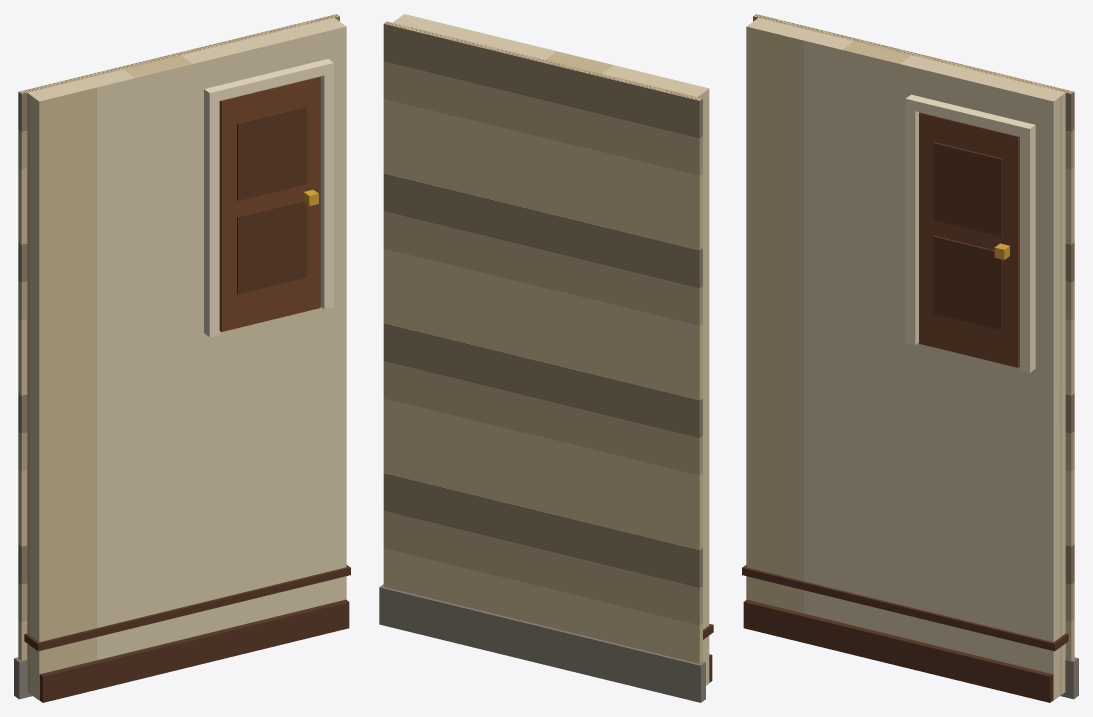
The model's file is stair_north.glb.
The picture shows the model from 3 angles, left to right: view 1: azimuth 30°, elevation 25°; view 2: azimuth 150°, elevation 25°; view 3: azimuth 330°, elevation 25°; orthographic projection.
Parts seen in each view (by area): view 1: Box1, slab, Box2, Box9, Box7, slab_panel2, slab_panel, Box4, Box5, Box10, Box6, Box8; view 2: Box7, Box8, Box1; view 3: Box1, slab, Box2, Box9, Box7, slab_panel2, slab_panel, Box5, Box4, Box10, Box6, Box8.
Part boxes in pixels (<box>): Box1: <box>27,17,346,699</box>; slab: <box>219,76,320,331</box>; Box2: <box>39,599,349,702</box>; Box9: <box>27,576,346,700</box>; Box7: <box>18,14,339,660</box>; slab_panel2: <box>237,106,306,200</box>; slab_panel: <box>237,200,306,294</box>; Box4: <box>204,86,219,336</box>; Box5: <box>319,59,333,309</box>; Box10: <box>24,565,350,651</box>; Box6: <box>214,61,324,100</box>; Box8: <box>14,657,32,699</box>; Box7: <box>383,21,702,663</box>; Box8: <box>379,584,705,702</box>; Box1: <box>392,14,709,685</box>; Box1: <box>746,17,1065,700</box>; slab: <box>919,112,1019,367</box>; Box2: <box>743,599,1053,702</box>; Box9: <box>746,576,1065,699</box>; Box7: <box>753,14,1074,660</box>; slab_panel2: <box>933,142,1002,236</box>; slab_panel: <box>933,235,1002,330</box>; Box5: <box>1020,122,1035,372</box>; Box4: <box>905,94,920,344</box>; Box10: <box>742,565,1068,651</box>; Box6: <box>915,97,1025,136</box>; Box8: <box>1060,657,1078,699</box>.
Bounding box in the file's own units: 2.32 × 4.14 × 0.345.
Materials: 8 (2 with a texture image).
